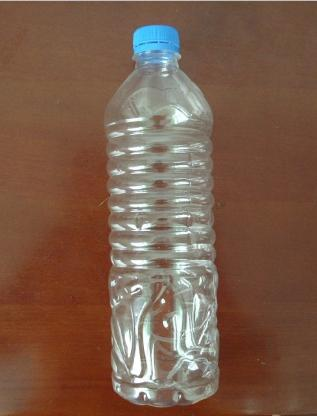Plastic Bottle: (104, 24, 220, 406)
